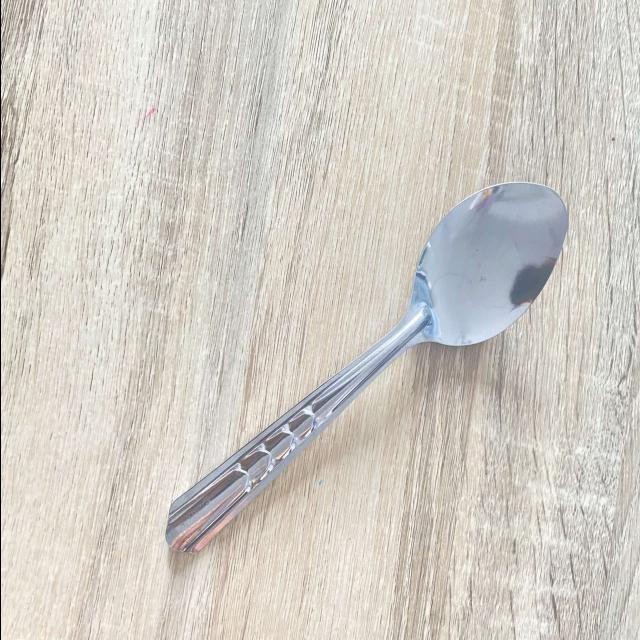spoon: (158, 138, 580, 582)
